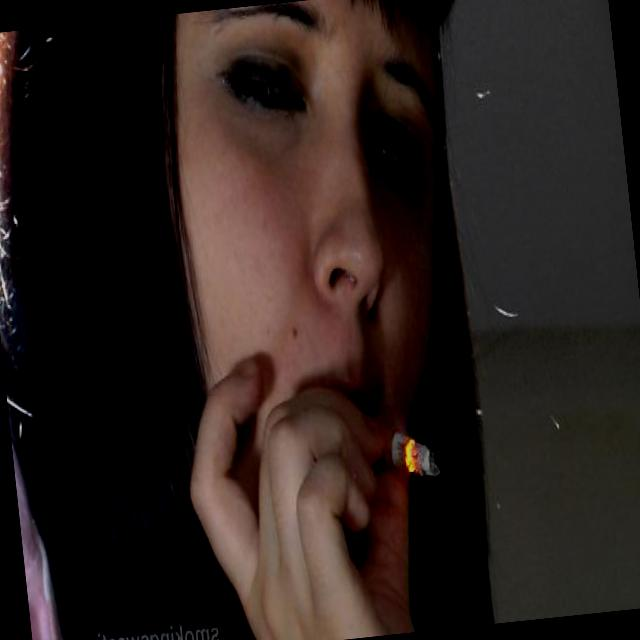smoke: (336, 394, 465, 514)
